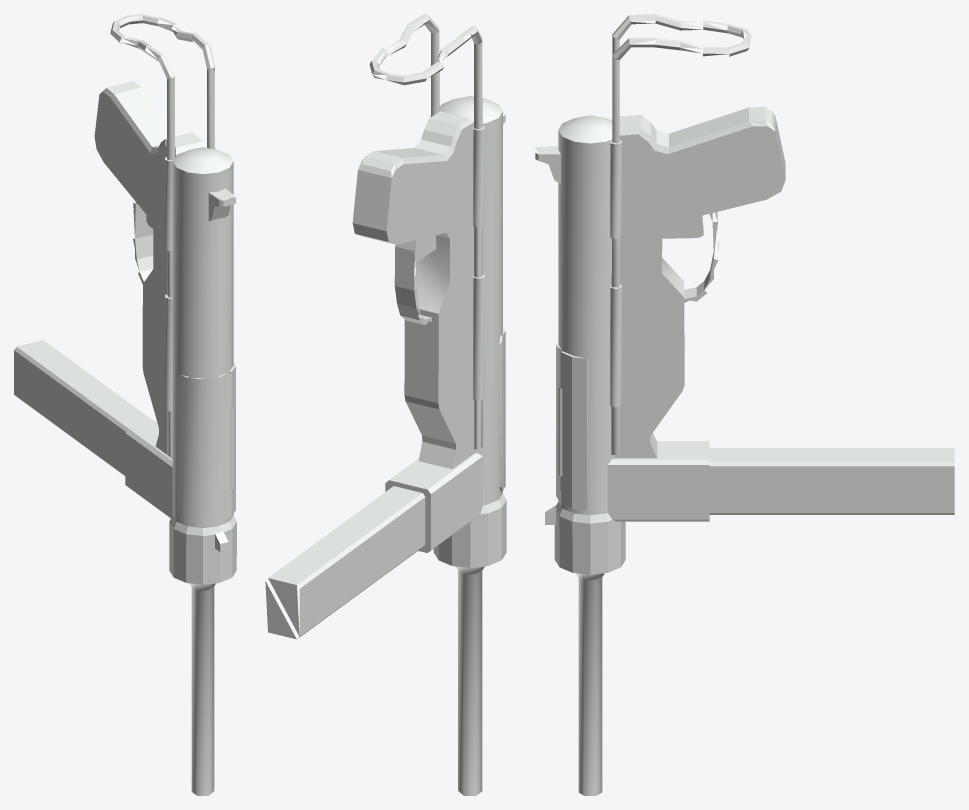
Rendered from weapon_temp_m3greasegun.glb.
3 renders of one model, left to right at view 1: azimuth 30°, elevation 25°; view 2: azimuth 150°, elevation 25°; view 3: azimuth 270°, elevation 25°, orthographic. The views are drawn at different scales.
Size of the model in its own units: 2.59 by 30.19 by 15.
Materials: 1 (1 with a texture image).
